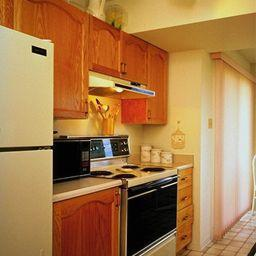Electrodomestico: (2, 24, 52, 255), (124, 175, 175, 255)
